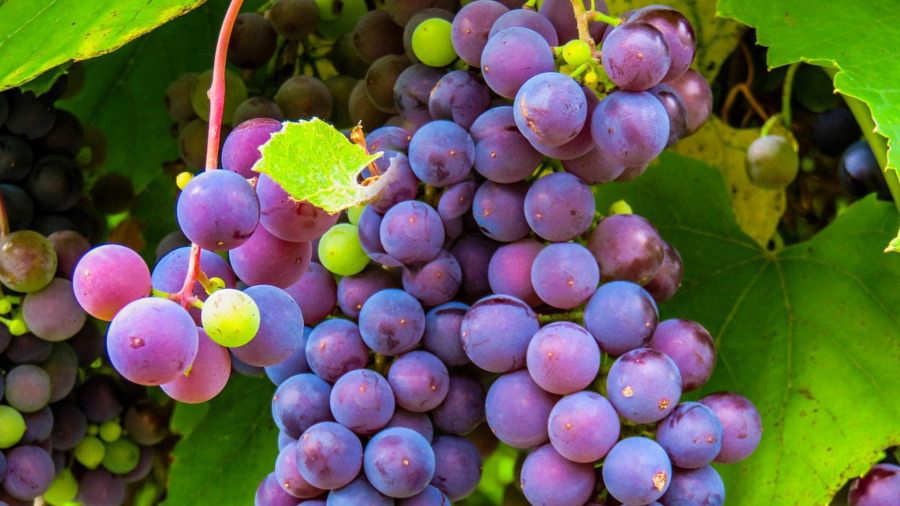Black grapes: (394, 12, 756, 506), (218, 119, 492, 506), (171, 171, 270, 247)
